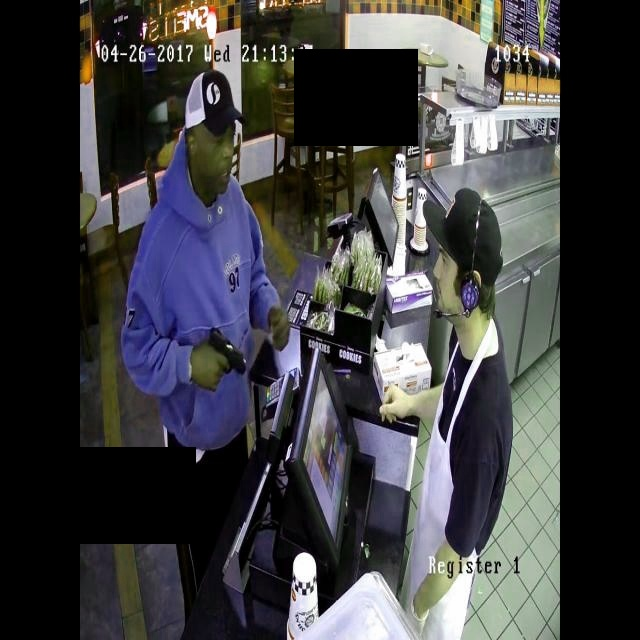gun: (190, 319, 259, 388)
